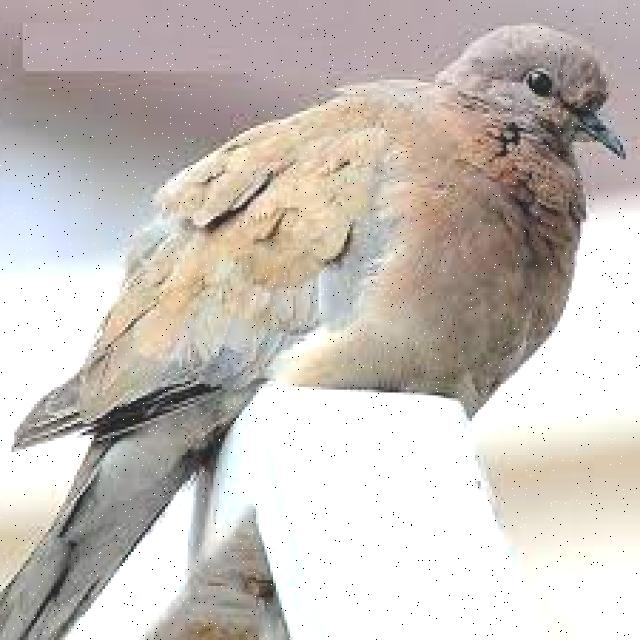dove: (0, 20, 628, 640)
